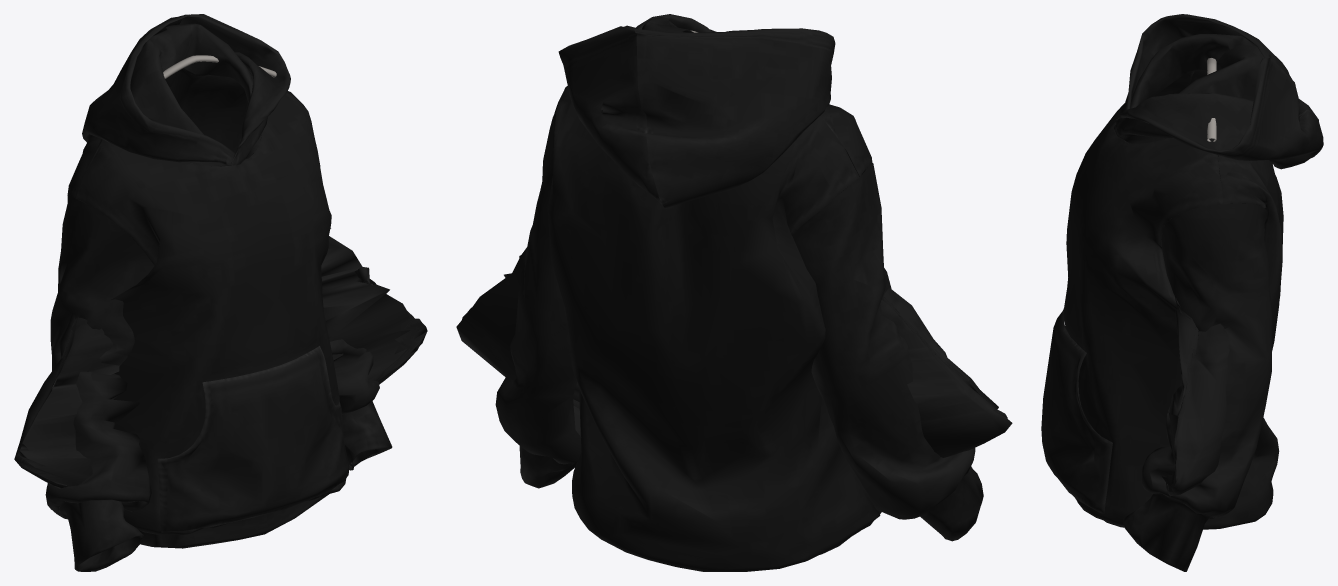
The model's file is top_hoodie.glb.
The picture shows the model from 3 angles, left to right: view 1: azimuth 30°, elevation 25°; view 2: azimuth 150°, elevation 25°; view 3: azimuth 270°, elevation 25°; orthographic projection. The views are drawn at different scales.
Parts seen in each view (by area): view 1: top_hoodie_cloth, top_hoodie_hanger; view 2: top_hoodie_cloth; view 3: top_hoodie_cloth.
Boxes of the visible parts, x1,y1,x2,y2 form: top_hoodie_cloth: [14, 14, 427, 571]; top_hoodie_hanger: [163, 55, 276, 78]; top_hoodie_cloth: [456, 14, 1012, 571]; top_hoodie_cloth: [1041, 14, 1323, 571].
Size of the model in its own units: 0.6973 by 0.68 by 0.3846.
Materials: 3 (2 with a texture image).
